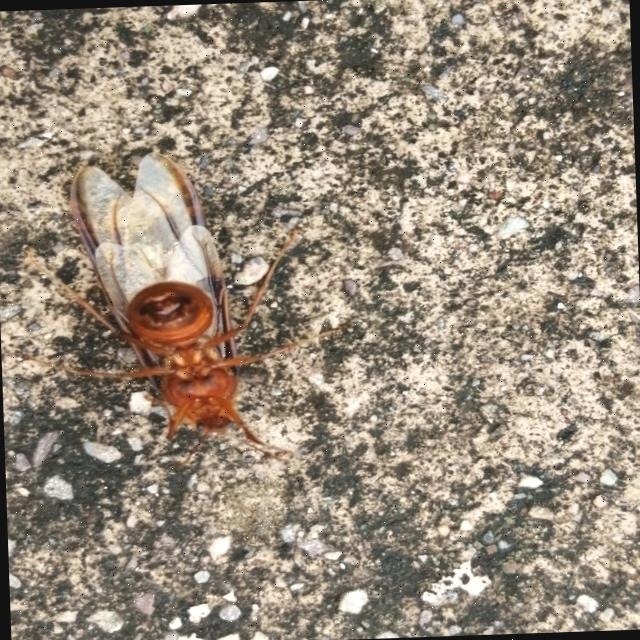Alive-Male-Alate: (14, 143, 356, 474)
